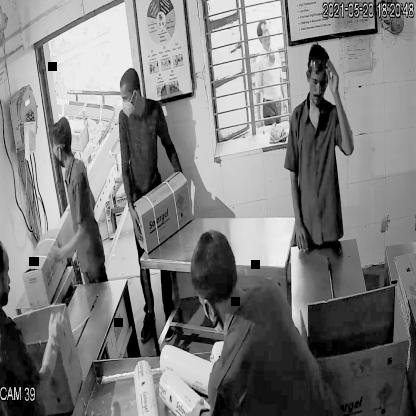no_goggles: (306, 71, 330, 93)
